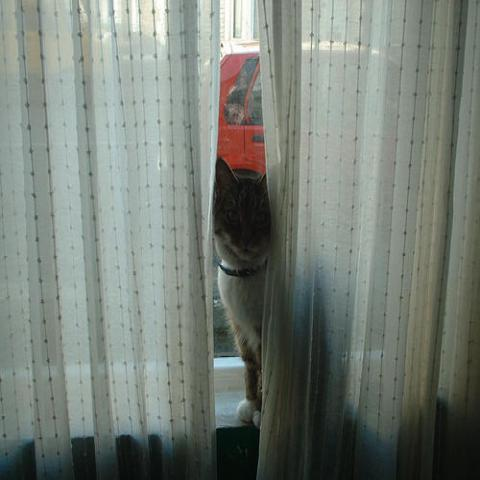car: (218, 52, 266, 179)
